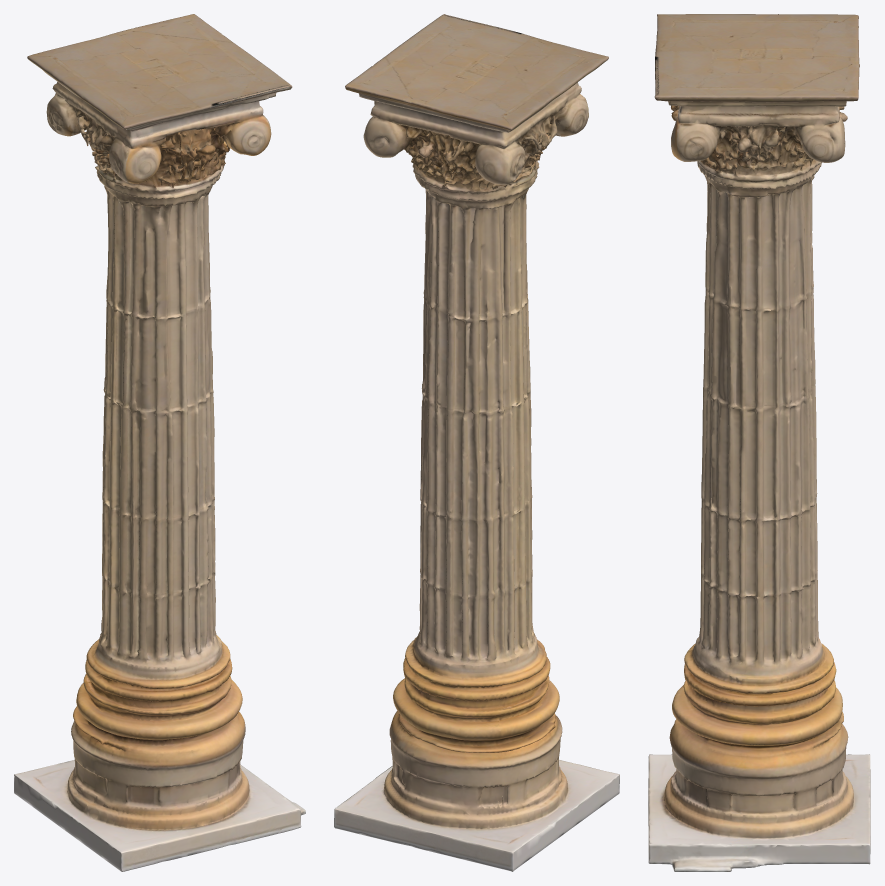
File: ionic-column.glb
3 renders of one model, left to right at view 1: azimuth 30°, elevation 25°; view 2: azimuth 150°, elevation 25°; view 3: azimuth 270°, elevation 25°, orthographic. The views are drawn at different scales.
Bounding box in the file's own units: 0.5564 × 2 × 0.5263.
1 material, 1 textured.
